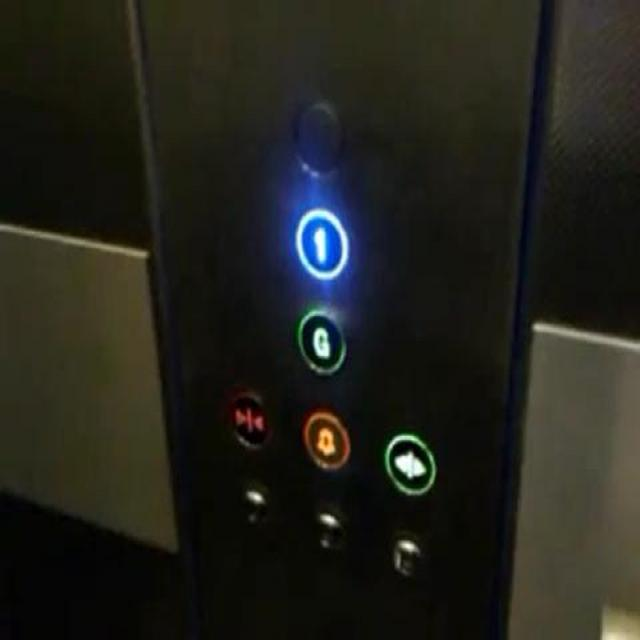1: (294, 204, 350, 280)
G: (296, 300, 349, 375)
alarm: (300, 407, 350, 472)
close: (224, 388, 270, 445)
empty: (288, 91, 346, 177)
indicator: (385, 529, 422, 579), (310, 507, 347, 552), (236, 479, 271, 525)
open: (383, 431, 435, 497)
